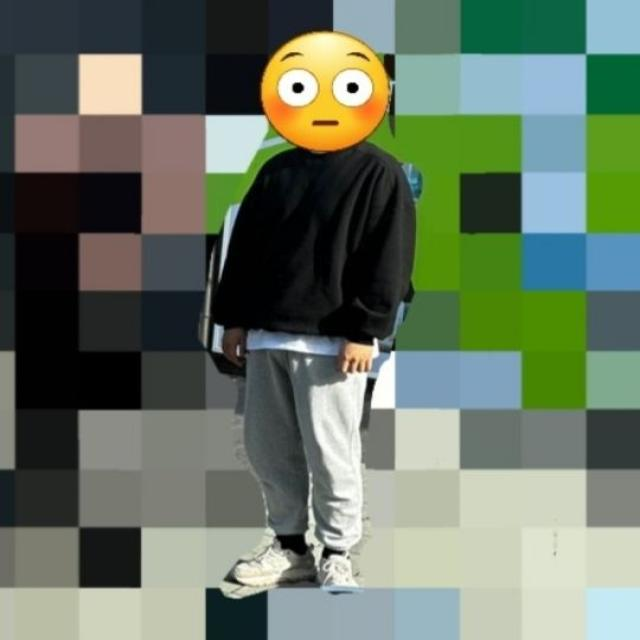mtm: (212, 145, 416, 349)
trainingpants: (243, 345, 367, 552)
